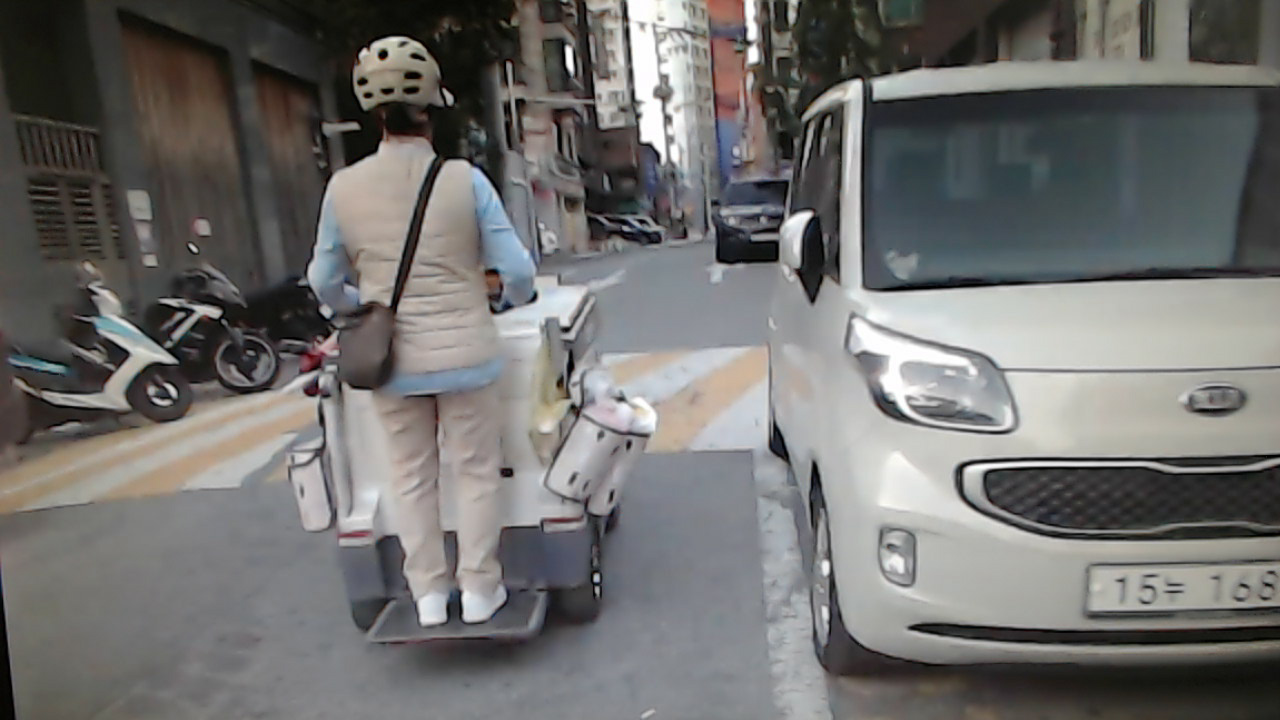Yakurut: (298, 31, 569, 673)
